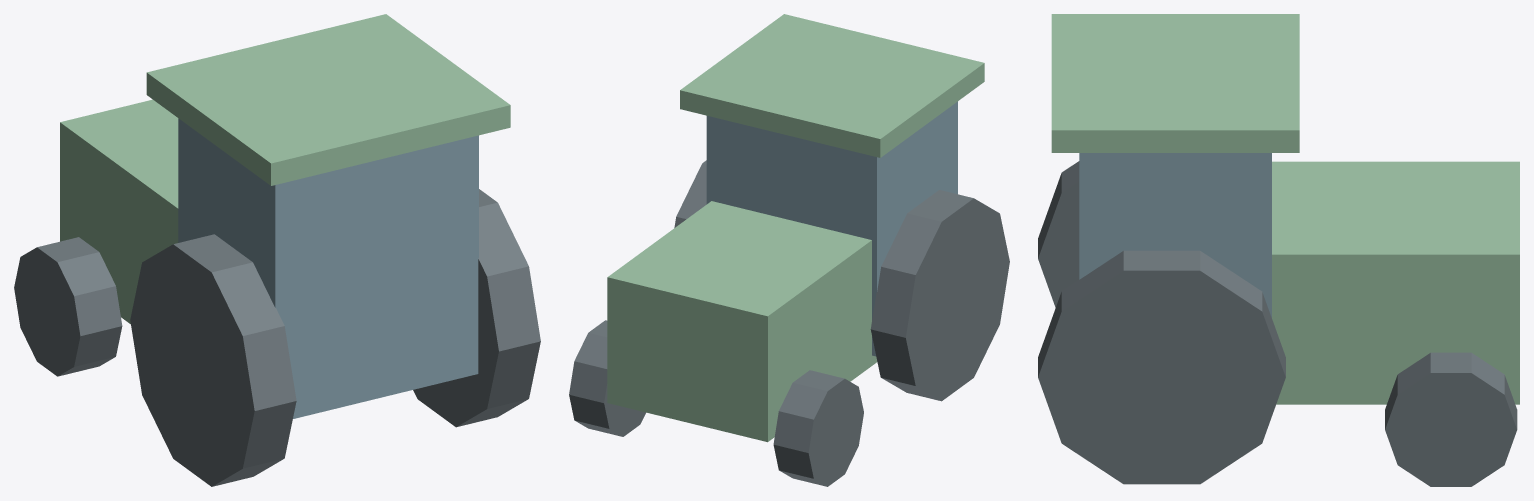
Rendered from tractor.glb.
The picture shows the model from 3 angles, left to right: view 1: azimuth 30°, elevation 25°; view 2: azimuth 150°, elevation 25°; view 3: azimuth 270°, elevation 25°; orthographic projection. The views are drawn at different scales.
Visible parts, largest first — view 1: tractor__cab, tractor__roof, tractor__tyre, tractor__hood, tractor__tyre.002, tractor__tyre.001; view 2: tractor__hood, tractor__roof, tractor__tyre, tractor__cab, tractor__tyre.001, tractor__tyre.003, tractor__tyre.002; view 3: tractor__hood, tractor__tyre.002, tractor__roof, tractor__cab, tractor__tyre.003, tractor__tyre.
Part boxes in pixels (x1,y1,x2,y2): tractor__cab: (178, 118, 478, 418); tractor__roof: (146, 14, 510, 185); tractor__tyre: (130, 234, 296, 486); tractor__hood: (60, 99, 178, 324); tractor__tyre.002: (413, 189, 540, 427); tractor__tyre.001: (14, 237, 122, 376); tractor__hood: (607, 201, 877, 442); tractor__roof: (680, 14, 984, 157); tractor__tyre: (870, 190, 1009, 401); tractor__cab: (706, 101, 957, 356); tractor__tyre.001: (773, 370, 863, 486); tractor__tyre.003: (569, 320, 645, 436); tractor__tyre.002: (674, 160, 706, 227); tractor__hood: (1272, 161, 1519, 404); tractor__tyre.002: (1038, 250, 1285, 484); tractor__roof: (1051, 14, 1299, 152); tractor__cab: (1079, 153, 1271, 317); tractor__tyre.003: (1385, 352, 1517, 486); tractor__tyre: (1038, 161, 1079, 307).
Size of the model in its own units: 2.39 by 2.77 by 3.5.
